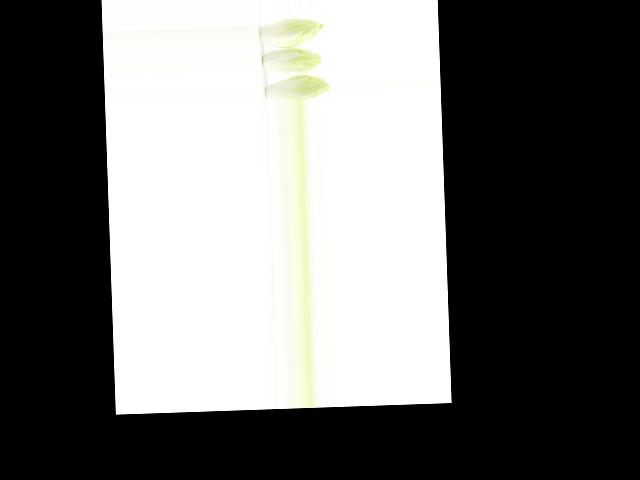lettuce: (256, 17, 325, 47)
